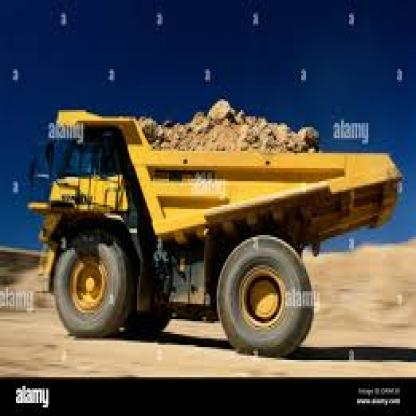dump_truck: (22, 78, 405, 364)
